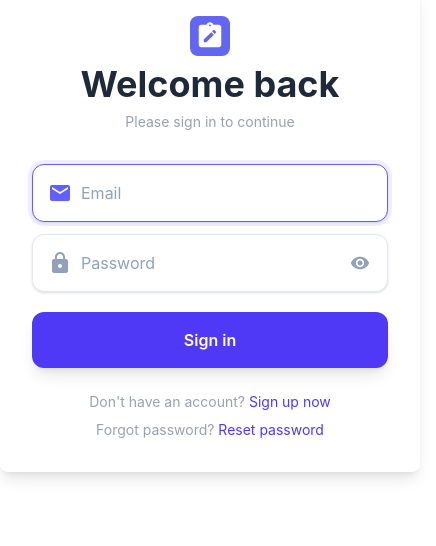
Test: LoginCard › validation: shows error when password is shorter than 8 characters
Type "1234567" into the password field with placeholder "Password". click: (210, 263)
box: [32, 234, 388, 292]
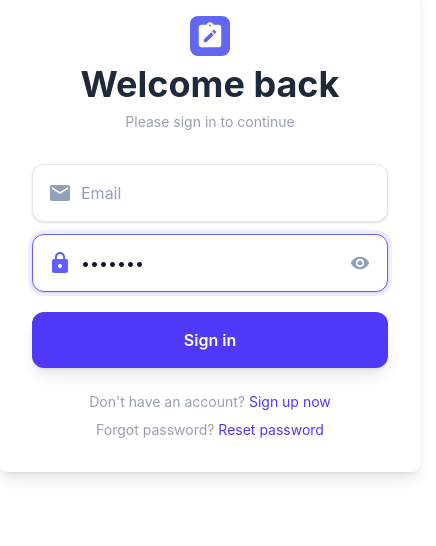
Click the button "Sign in". click: click(210, 340)
box: [32, 312, 388, 368]
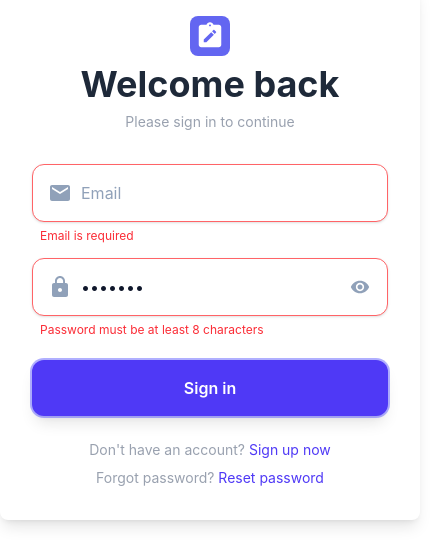
Check: the text "Password must be at least 8 characters" is shown, box [40, 322, 264, 337]
